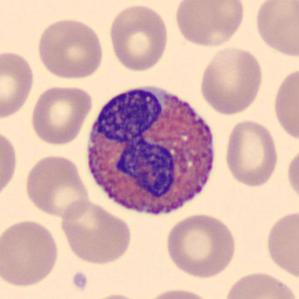Eosinophil: (80, 74, 225, 227)
Platelets: (70, 270, 89, 292)
RBC: (57, 198, 134, 266), (163, 212, 238, 279), (198, 44, 265, 116), (107, 1, 171, 74), (23, 152, 90, 220), (35, 16, 105, 81), (0, 217, 61, 289), (28, 83, 94, 147), (222, 117, 280, 188), (172, 0, 247, 49), (251, 0, 298, 58), (263, 207, 299, 281), (0, 48, 36, 120), (221, 269, 298, 299), (270, 64, 299, 143), (0, 127, 19, 201), (143, 286, 217, 299), (285, 145, 299, 205), (84, 291, 144, 299)
